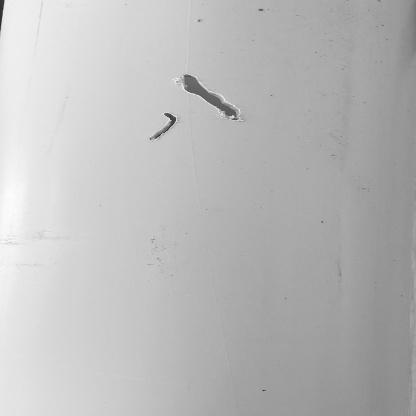fengxi: (153, 107, 184, 141)
sunshang: (164, 63, 261, 123)
